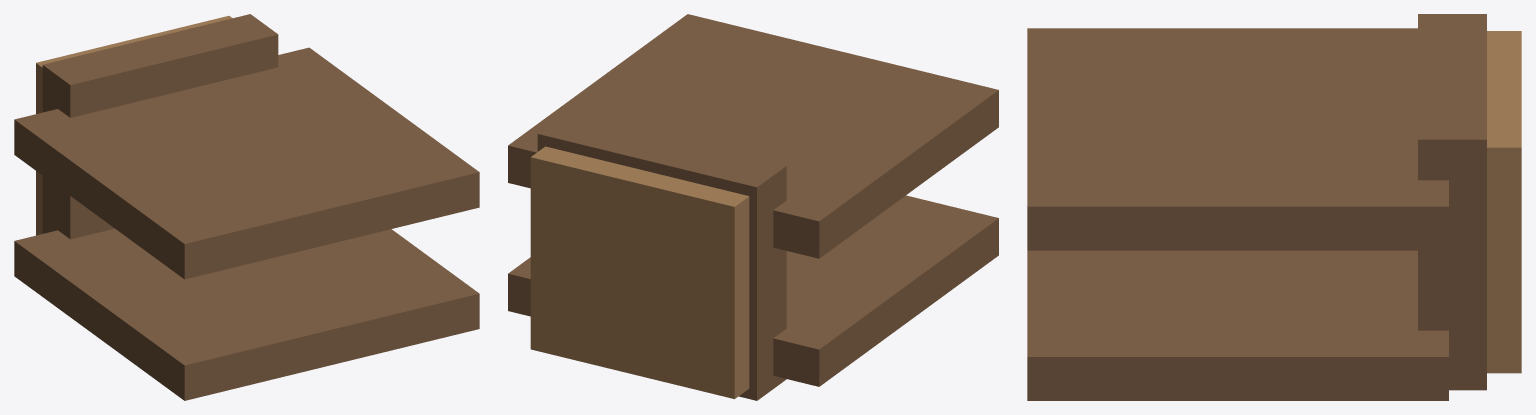
The model's file is joelheiras_couro.glb.
3 views of the same model, side by side, from view 1: azimuth 30°, elevation 25°; view 2: azimuth 150°, elevation 25°; view 3: azimuth 270°, elevation 25° (orthographic). The views are drawn at different scales.
Visible parts, largest first — view 1: joelheiras_couro; view 2: joelheiras_couro; view 3: joelheiras_couro.
Boxes of the visible parts, box(x1,y1,x2,y2) form: joelheiras_couro: box(14, 14, 479, 400); joelheiras_couro: box(508, 14, 998, 400); joelheiras_couro: box(1027, 14, 1521, 400).
Bounding box in the file's own units: 0.305 × 0.2 × 0.3575.
